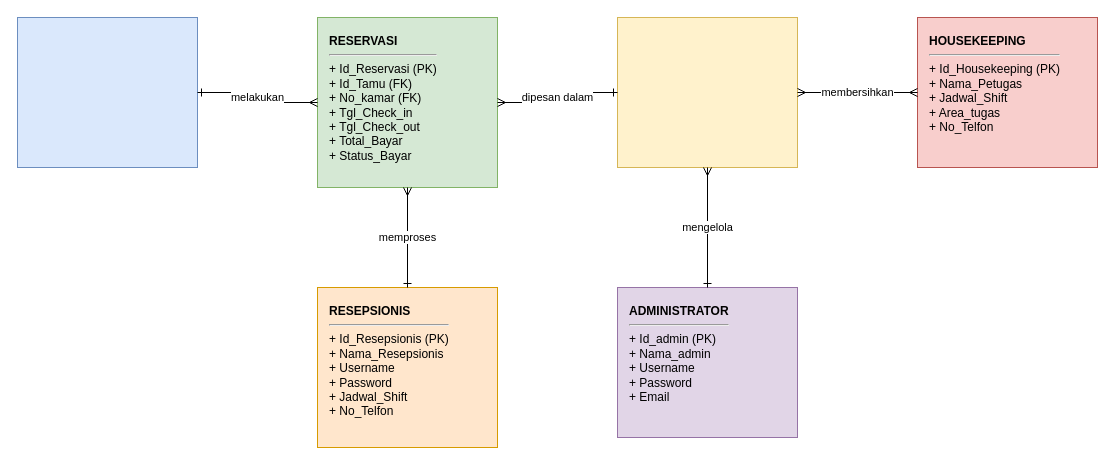
This 1115x465 diagram has some shape labels left out. The shapes that lost their labels are listed below. From the top down, each one's centre as x and y in pixels, then its label:
the point at 107,92: TAMU + Id_Tamu (PK) + Nama_Tamu + Alamat + No_KTP + No_Telfon
the point at 707,92: KAMAR + No_kamar (PK) + Tipe_kamar + Harga_per_malam + Fasilitas + Status_kamar
